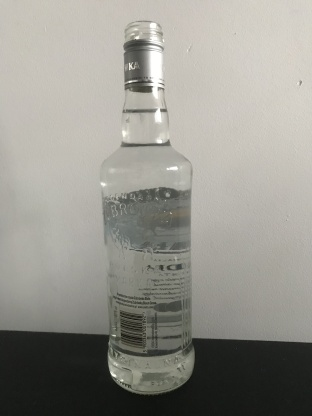nakretka: (121, 19, 166, 93)
